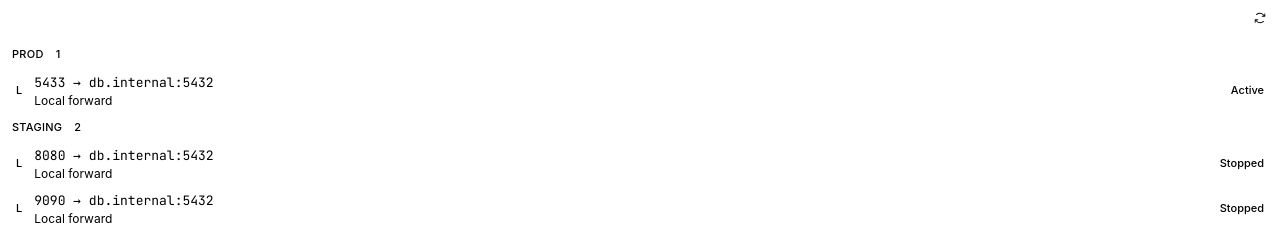
TunnelsPanel › starts a stopped forward when its row is selected
Click the button "L 8080 → db.internal:5432 Local forward Stopped" at (124, 156), box x1=4 y1=141 x2=1276 y2=186
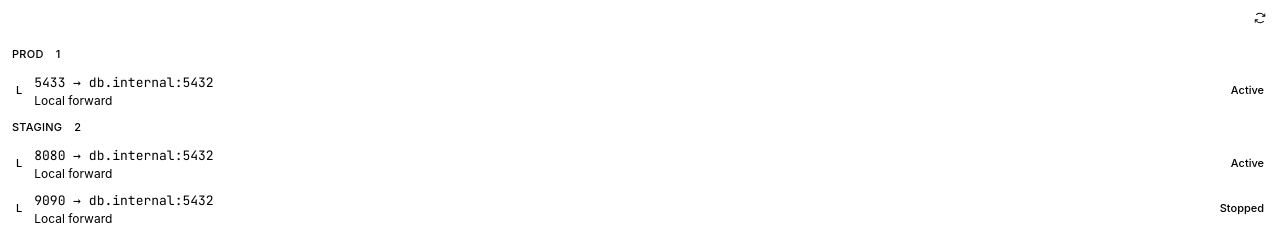
Now the button "L 8080 → db.internal:5432 Local forward Active" is shown, box x1=4 y1=141 x2=1276 y2=186
